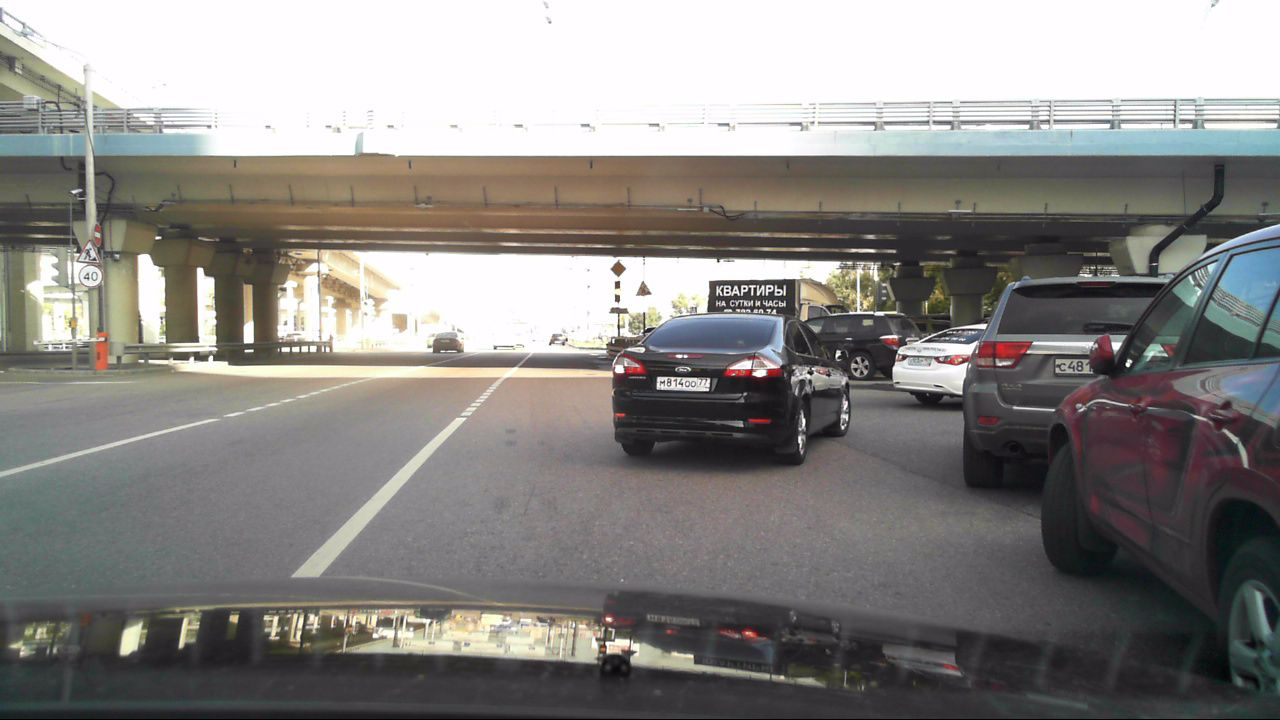speed_warning_40: (76, 262, 103, 287)
